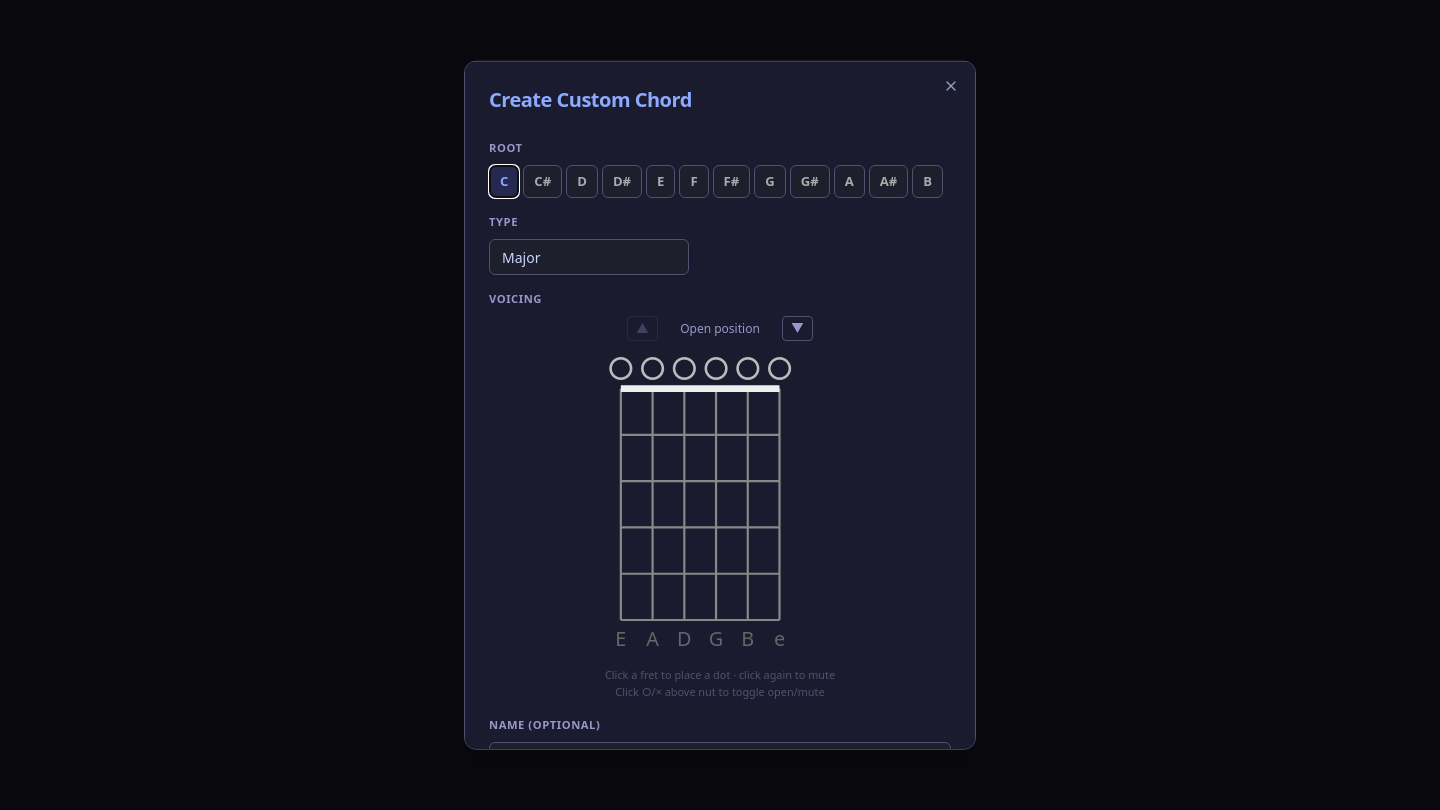
Test: ChordCreatorModal Reset button › Reset restores the scroll label back to "Open position"
The image size is (1440, 810).
Note: Scroll down to leave open position
Click the button named "Scroll down one fret" at (797, 328), box [782,316,813,341]
(page scrolled)
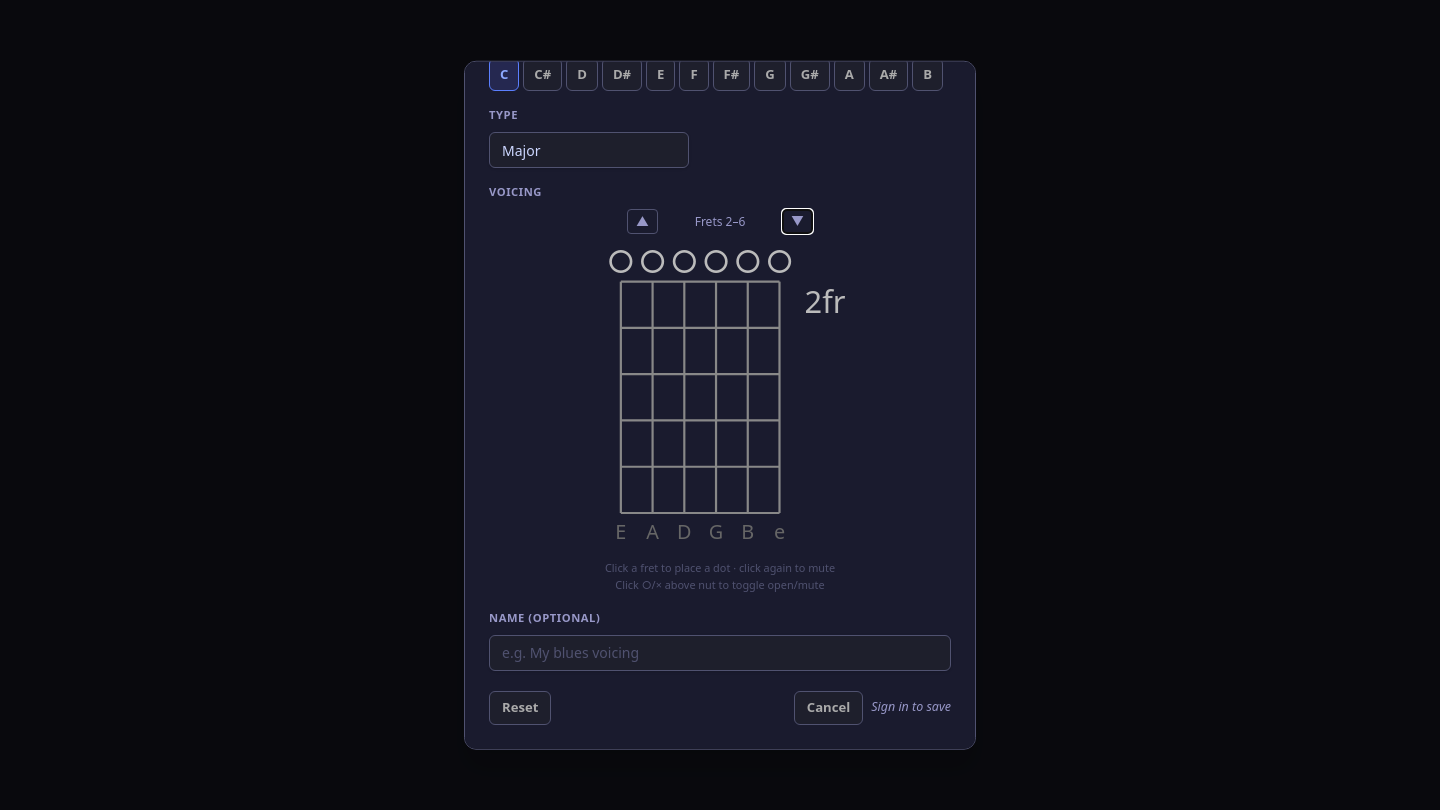
Now the text "Frets 2–6" is shown, box [695,212,745,229]
Note: Reset should bring editorStartFret back to 1
Click the button "Reset" at (520, 707), box [489,691,551,724]
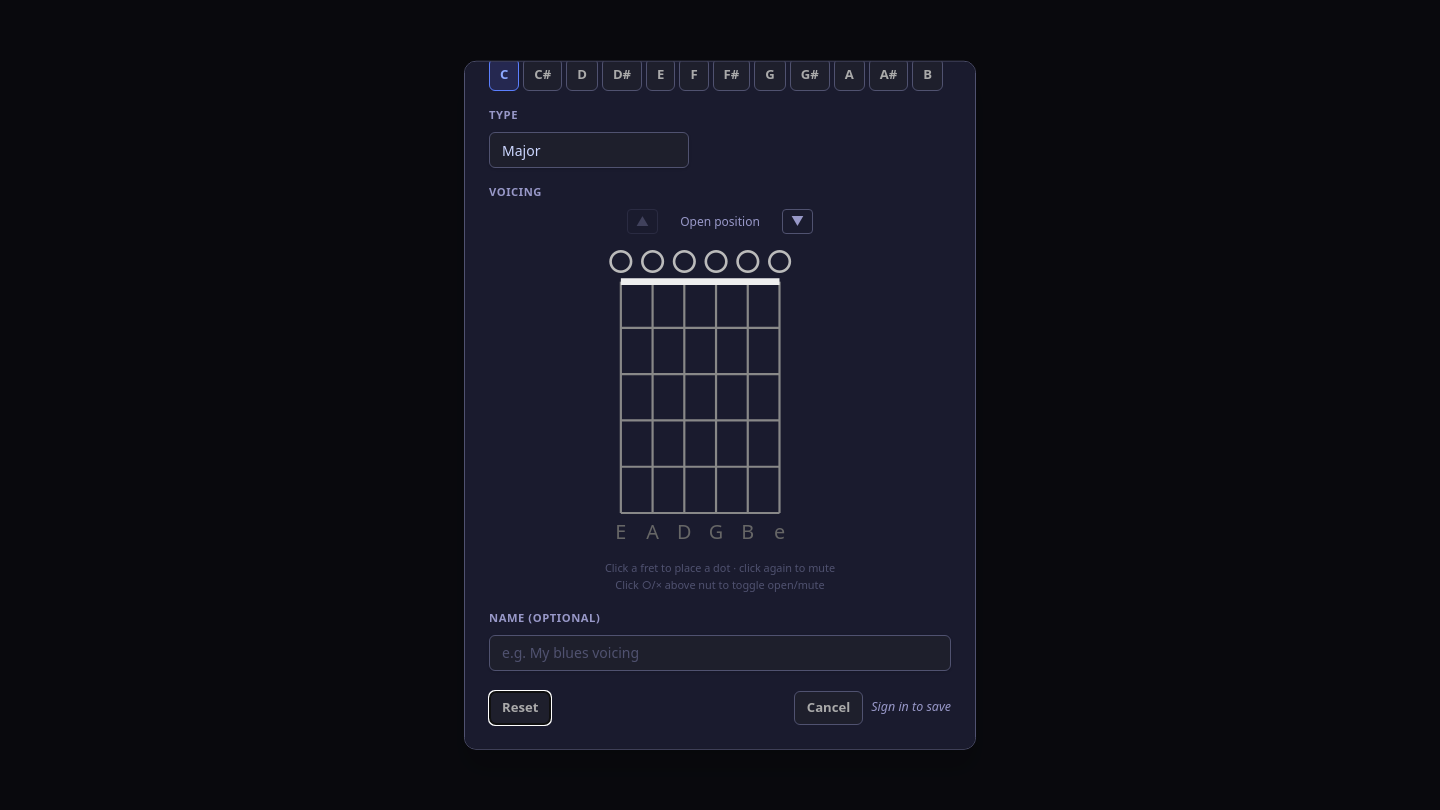
Now the text "Open position" is shown, box [680,212,760,229]
